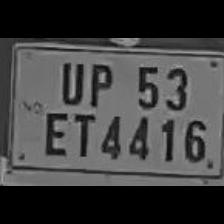1: (153, 111, 177, 163)
3: (160, 61, 190, 108)
4: (96, 110, 122, 160), (124, 110, 150, 160)
5: (130, 60, 160, 108)
6: (180, 114, 209, 162)
E: (39, 106, 69, 160)
P: (82, 56, 116, 106)
T: (68, 110, 96, 156)
U: (54, 56, 86, 104)
